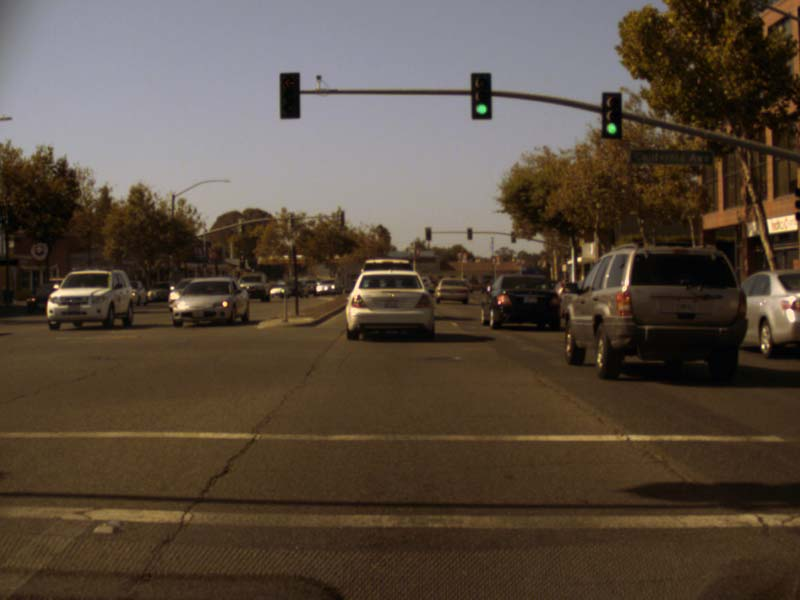Green: (470, 72, 492, 120), (602, 92, 621, 138)
